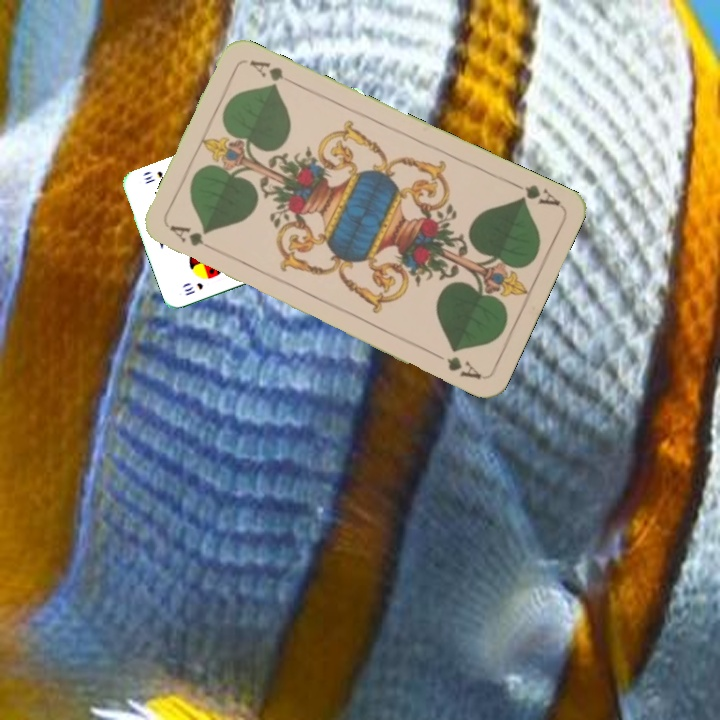GA: (166, 220, 221, 255), (506, 177, 563, 209)
S10: (180, 279, 206, 298)
